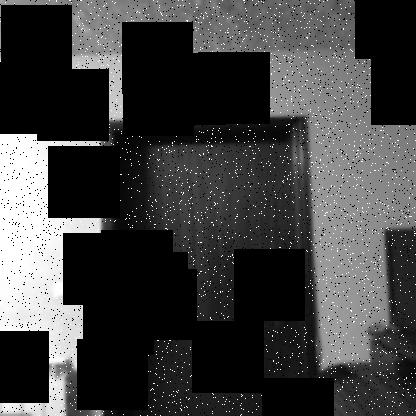Porte: (97, 114, 323, 416)
